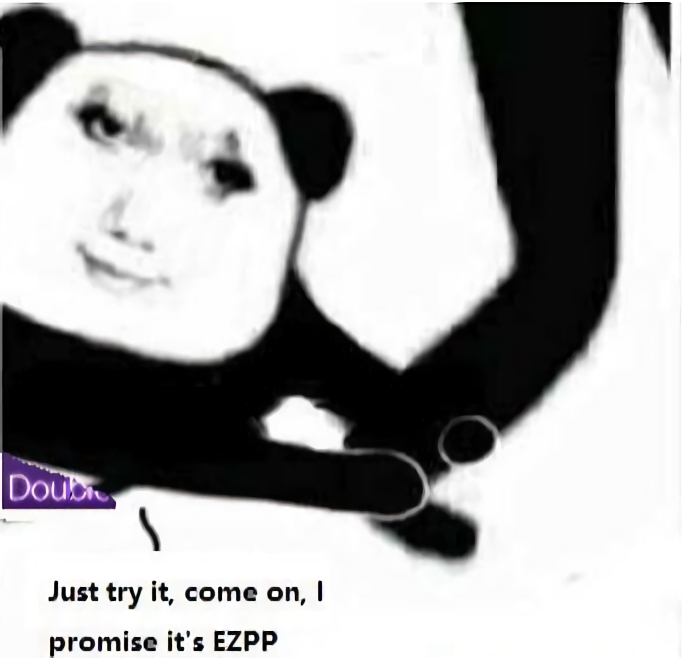dragon: (50, 93, 262, 305)
